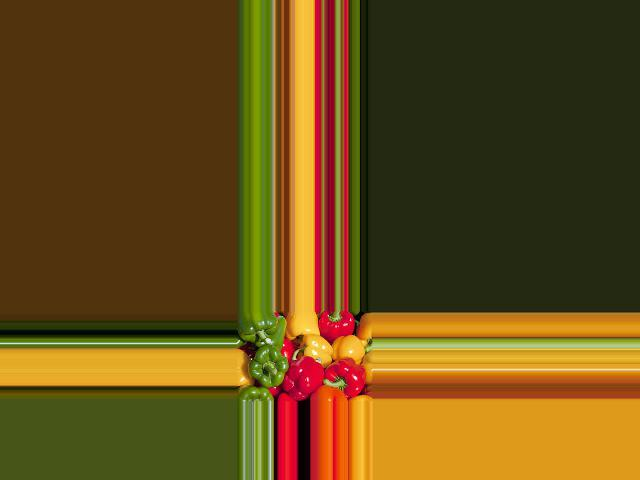bell_pepper: (237, 381, 274, 402)
